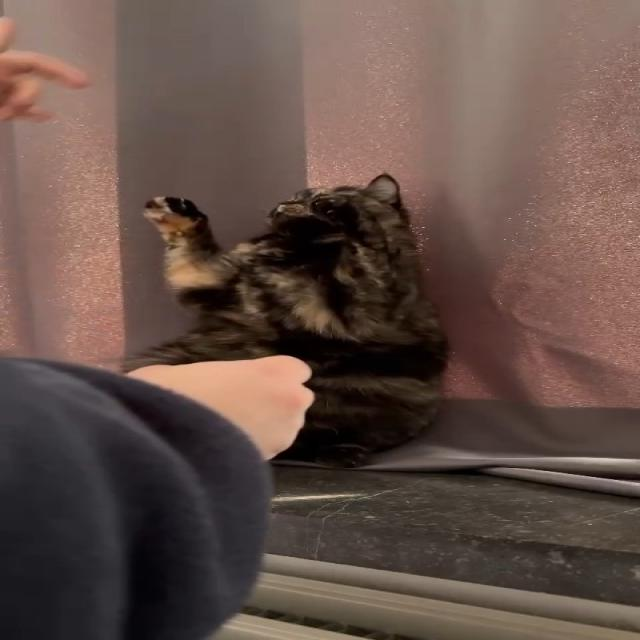authorized: (118, 171, 450, 469)
